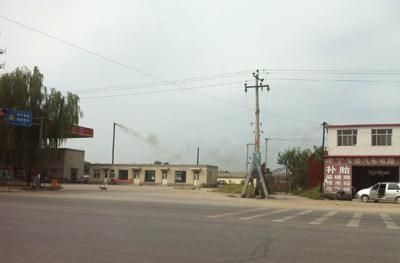dust: (111, 116, 149, 139)
